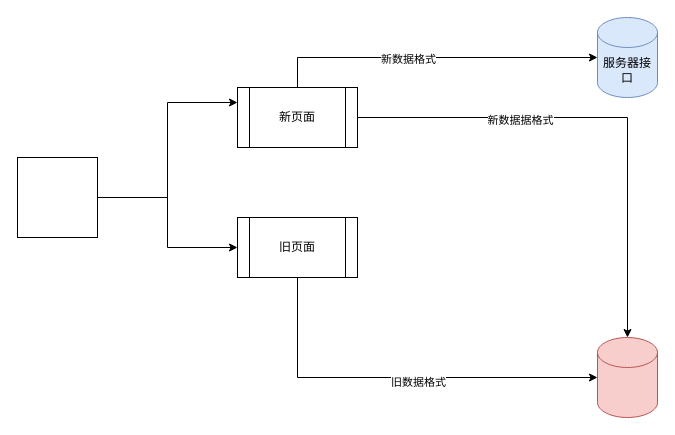
Some shapes in this 675 by 435 pixel diagram are drawn without their labels. The centre of each missing label's shape, as x and y in pixels:
"RPA网页" goes at point (57, 197).
"客户端" goes at point (627, 377).
